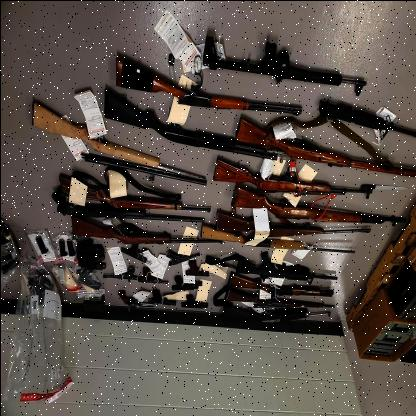rifle: (29, 101, 212, 188), (114, 46, 300, 118), (227, 183, 398, 226), (232, 252, 336, 286)
